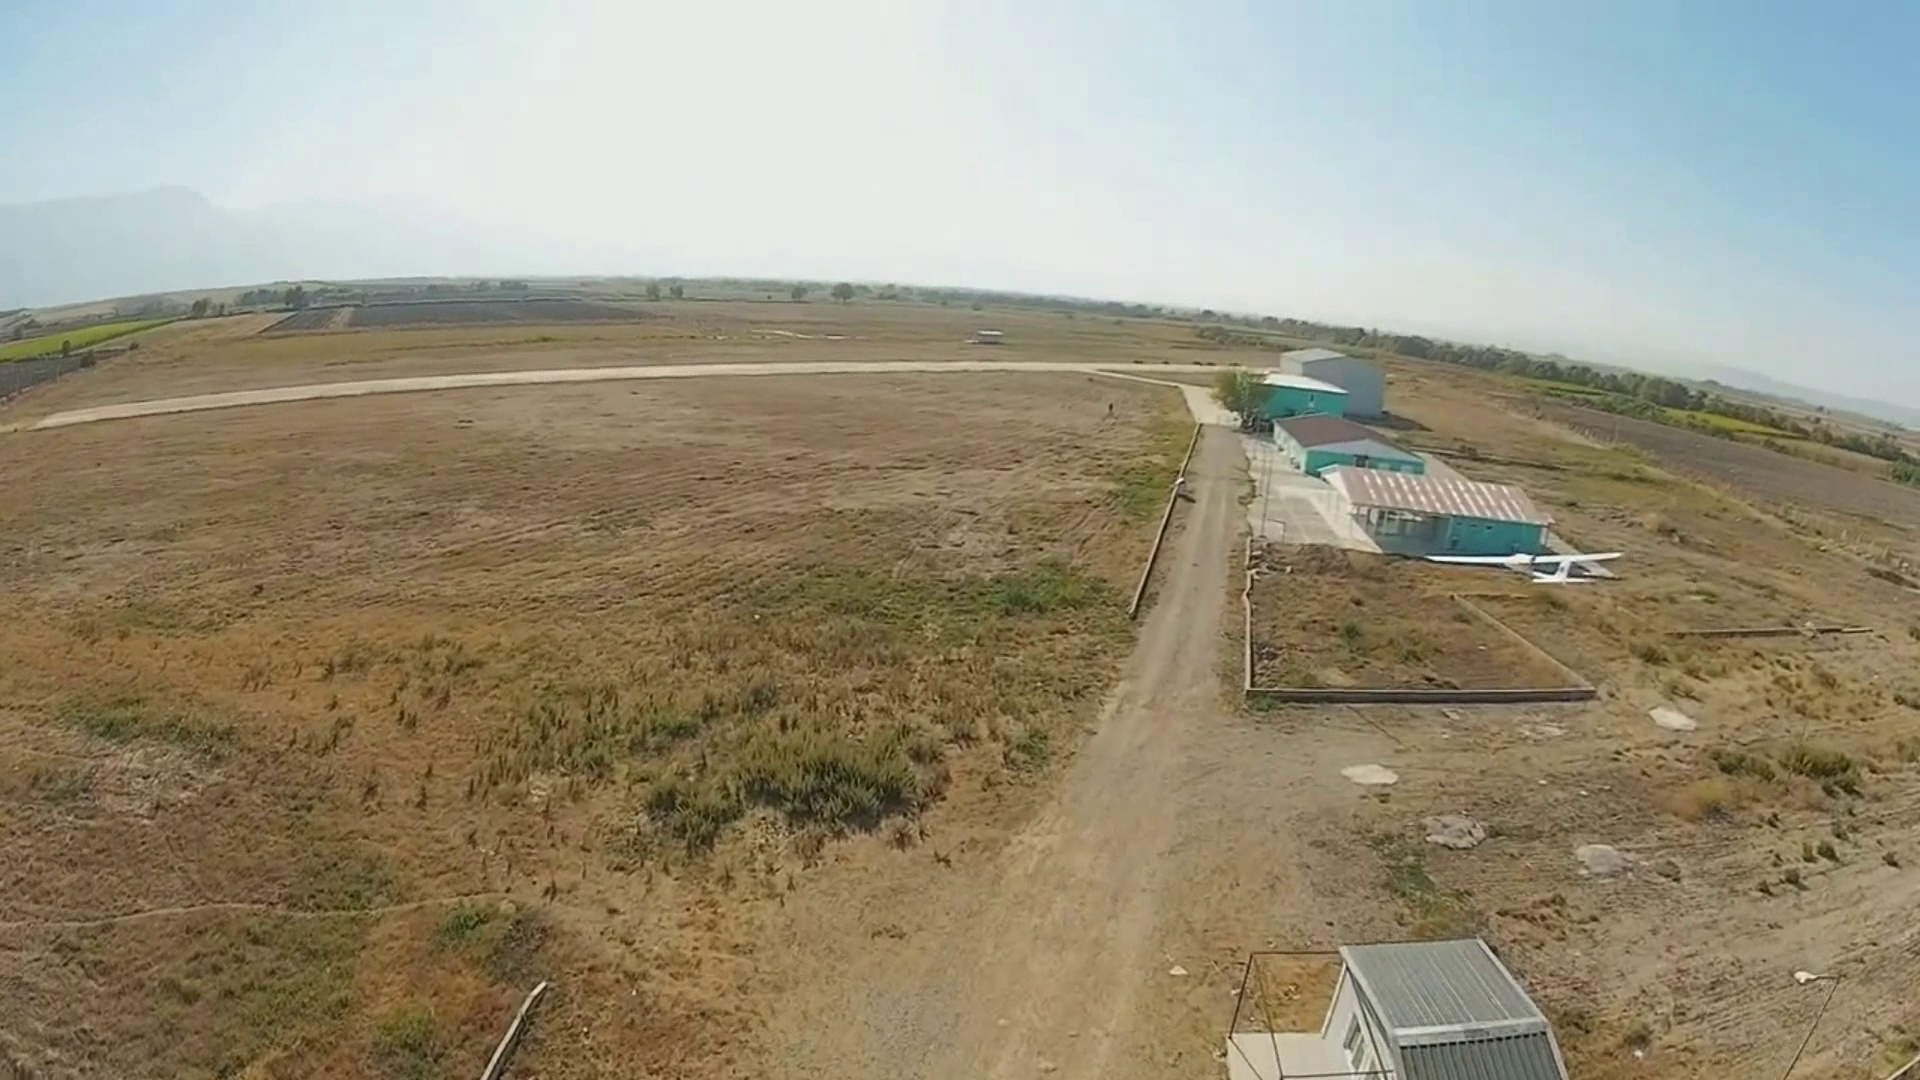airplane: (1233, 356, 1617, 584)
